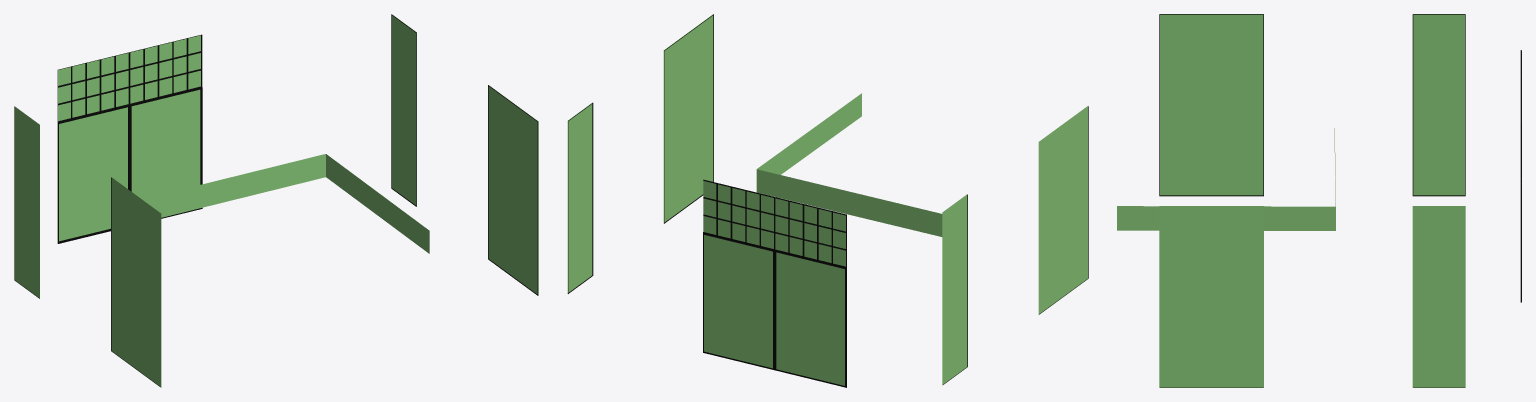
The model's file is walls_glass.fbx.
The picture shows the model from 3 angles, left to right: view 1: azimuth 30°, elevation 25°; view 2: azimuth 150°, elevation 25°; view 3: azimuth 270°, elevation 25°; orthographic projection. The views are drawn at different scales.
Parts seen in each view (by area): view 1: Cube.003; view 2: Cube.003; view 3: Cube.003.
Boxes of the visible parts, left/top/right/bottom form: Cube.003: left=14, top=14, right=538, bottom=387; Cube.003: left=567, top=14, right=1088, bottom=387; Cube.003: left=1117, top=14, right=1521, bottom=387.
Size of the model in its own units: 1237 by 545 by 1099.
